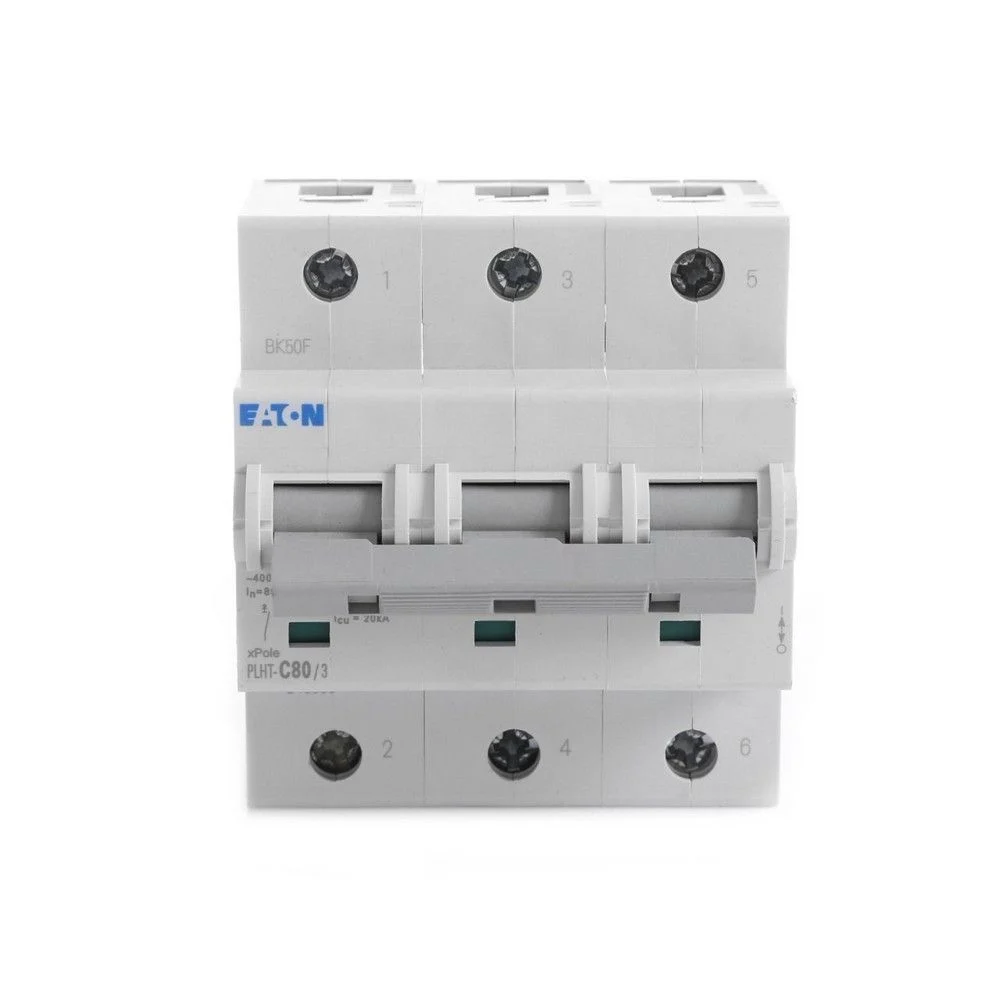devre_kesici: (222, 164, 816, 825)
